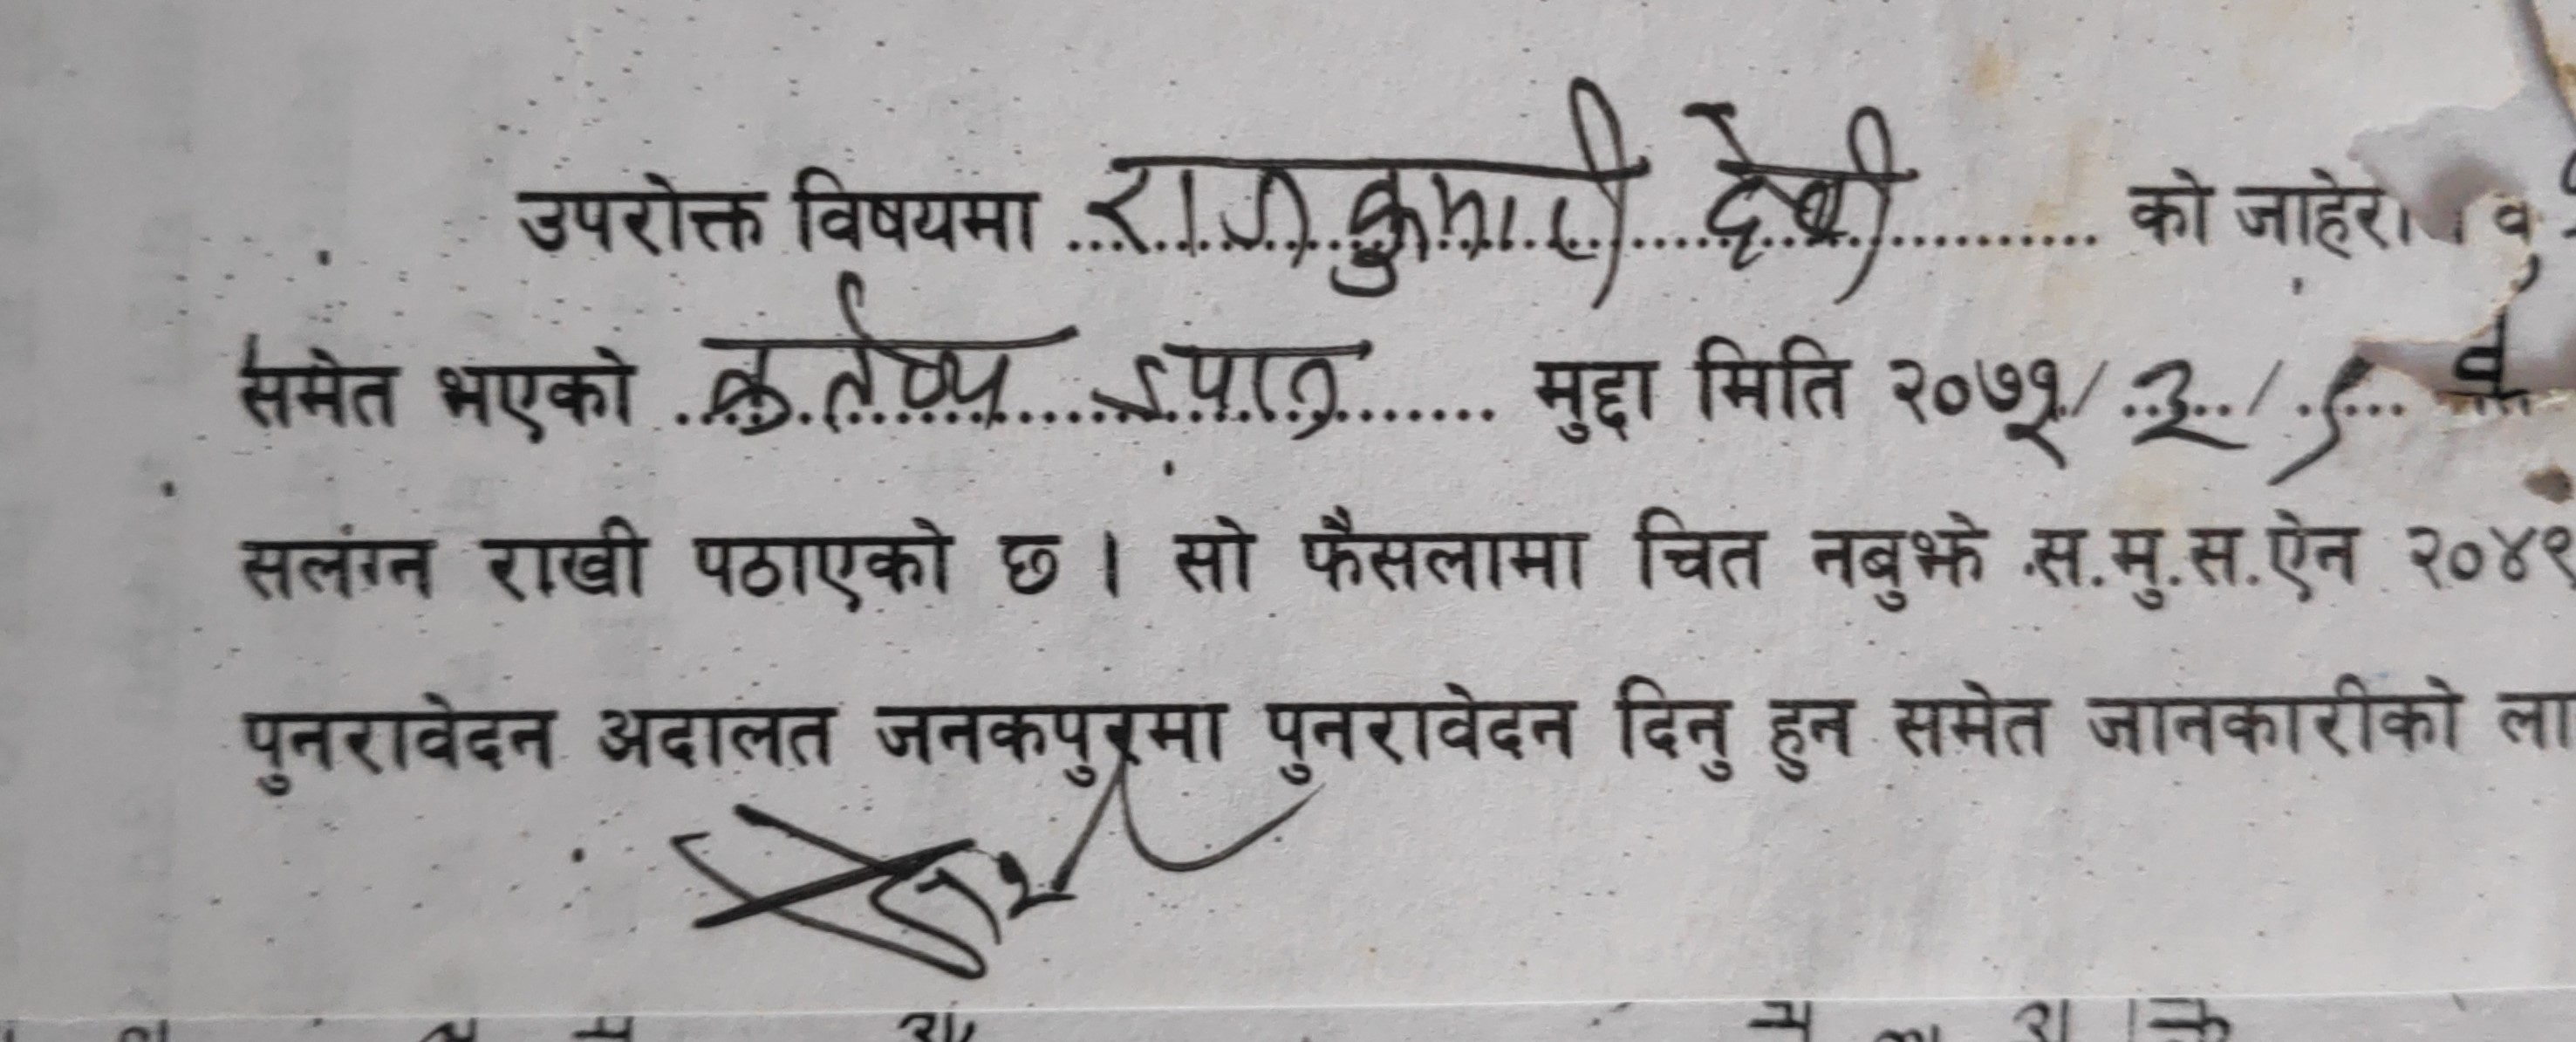text: (1073, 67, 1638, 319), (692, 271, 1037, 442), (1671, 84, 1909, 281), (1083, 330, 1367, 442), (2119, 348, 2239, 472), (2277, 340, 2384, 478)
